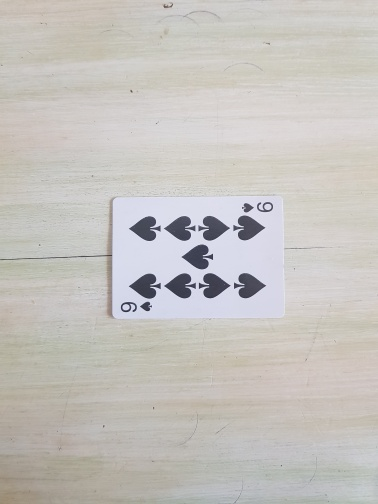nine: (111, 194, 286, 322)
